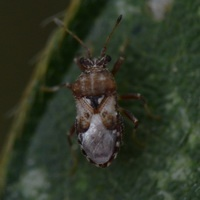insect: (52, 15, 123, 166)
